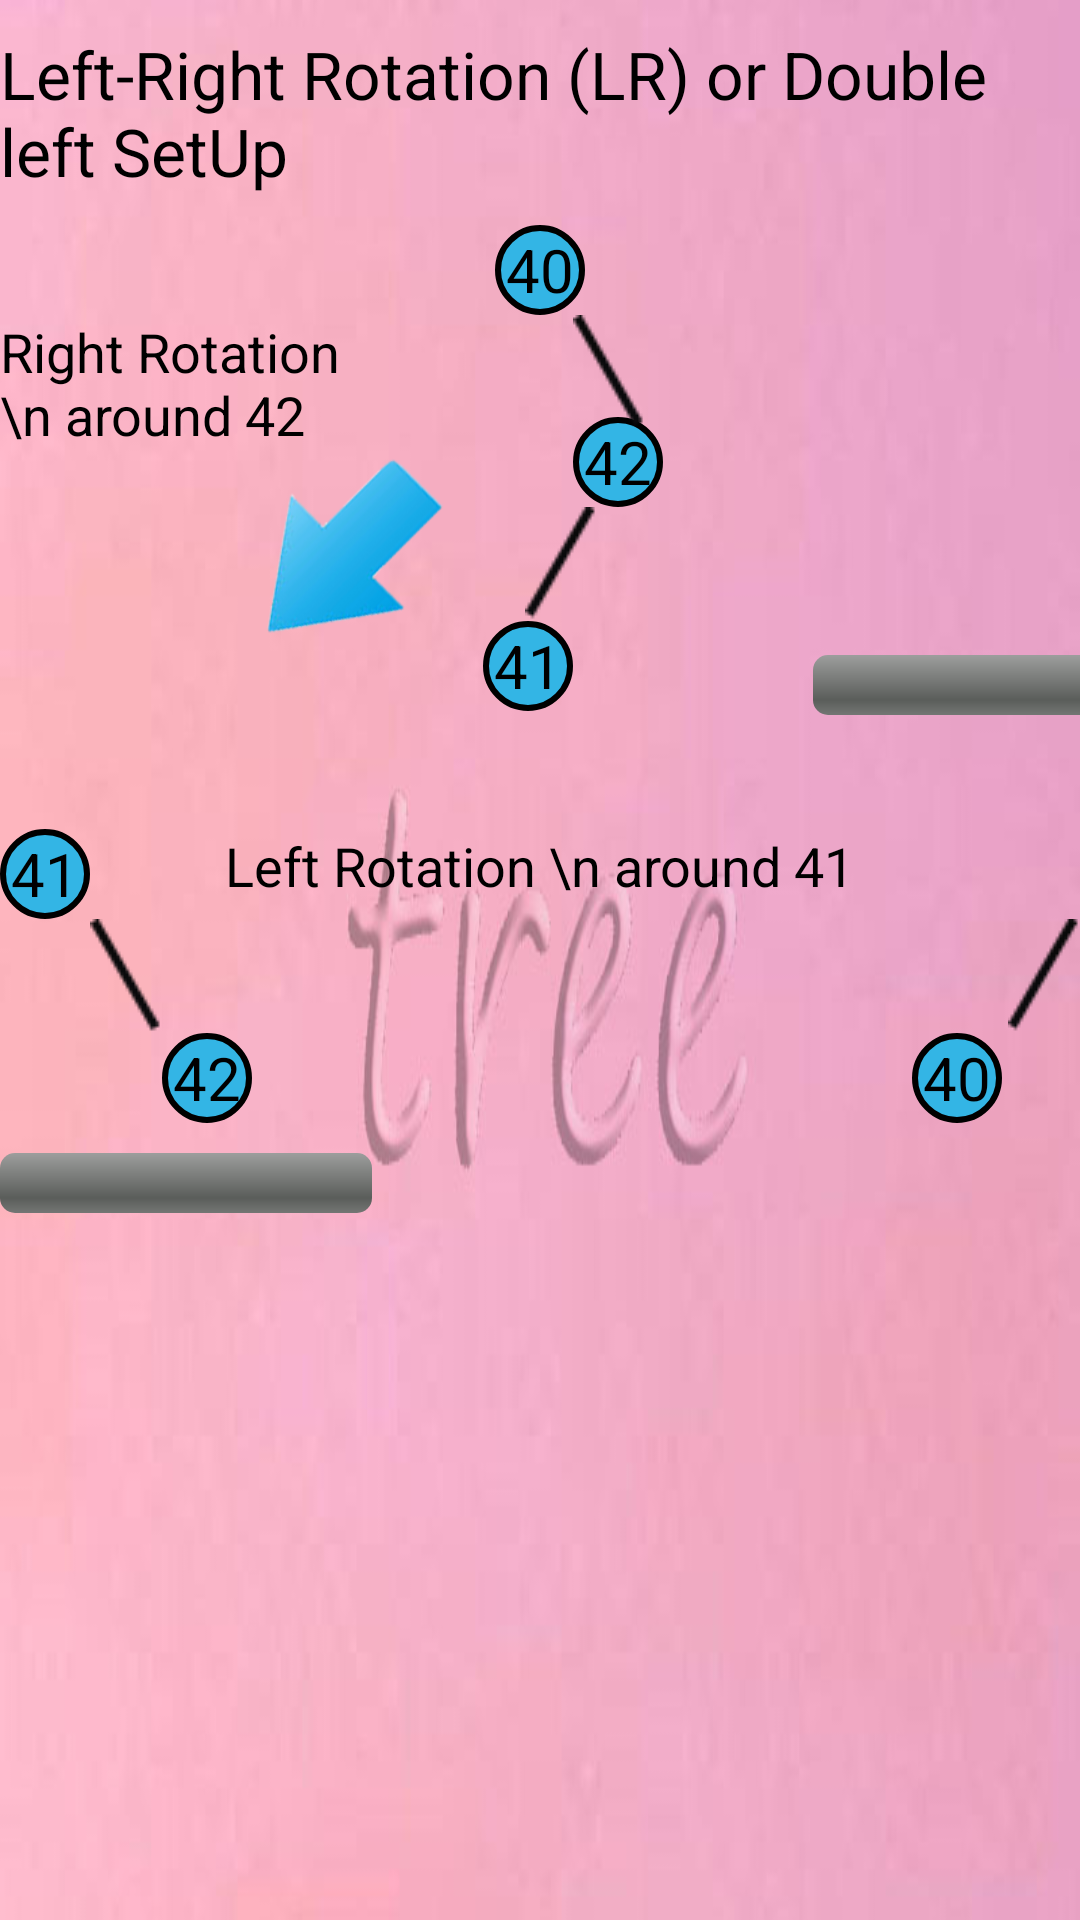

Screen size 1080×1920. Icon name, then its center in pixels as point (x, y):
arrownext: point (355, 546)
